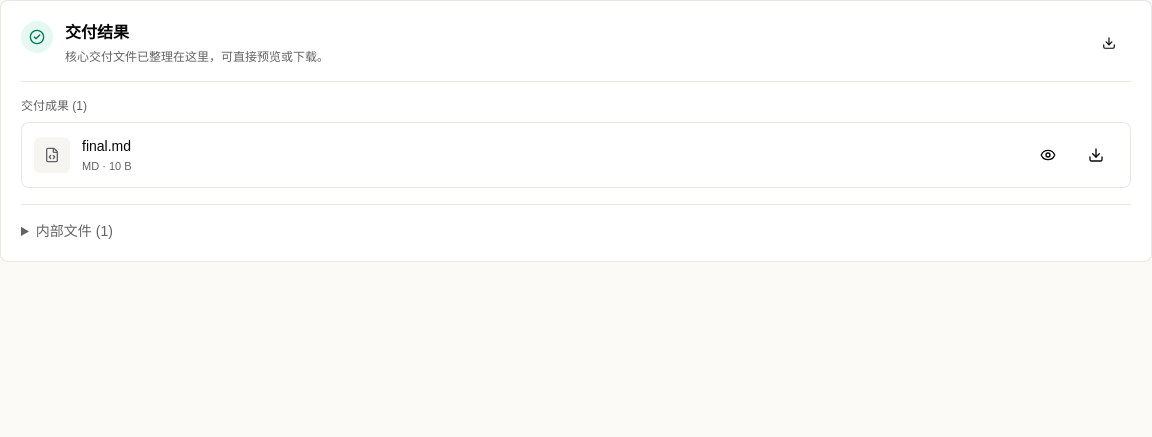
TaskDeliverablesPanel › lets admins preview internal files in a separate grouped disclosure
Expected: the text "final.md" is shown, top-left (82, 138), bottom-right (131, 154)
Click the heading "内部文件 (1)": (74, 231) top-left (36, 223), bottom-right (113, 239)
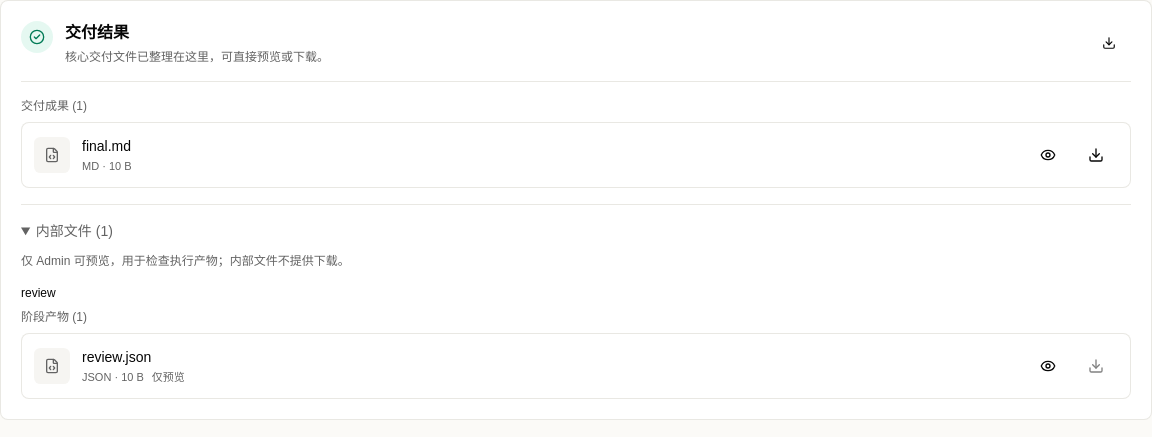
Now the text "review.json" is shown, box top-left (82, 349), bottom-right (151, 365)
Now the heading "review" is shown, box top-left (21, 286), bottom-right (56, 300)
